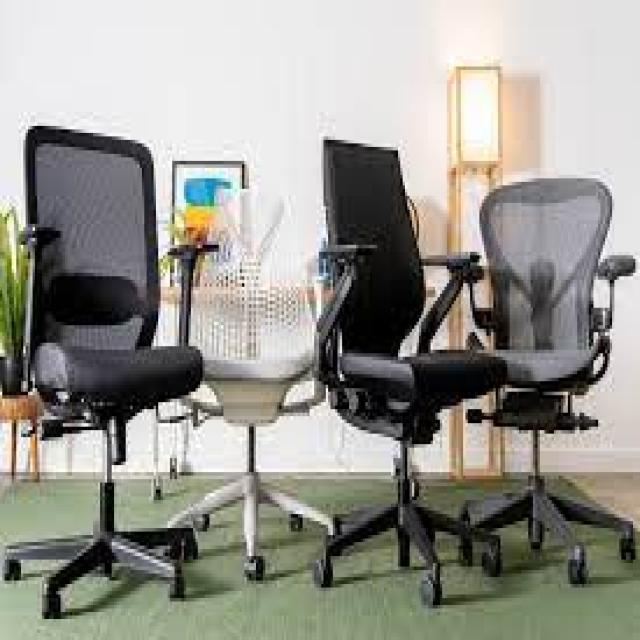chair: (286, 114, 516, 639), (0, 98, 219, 640), (141, 140, 358, 621), (432, 153, 640, 624)
